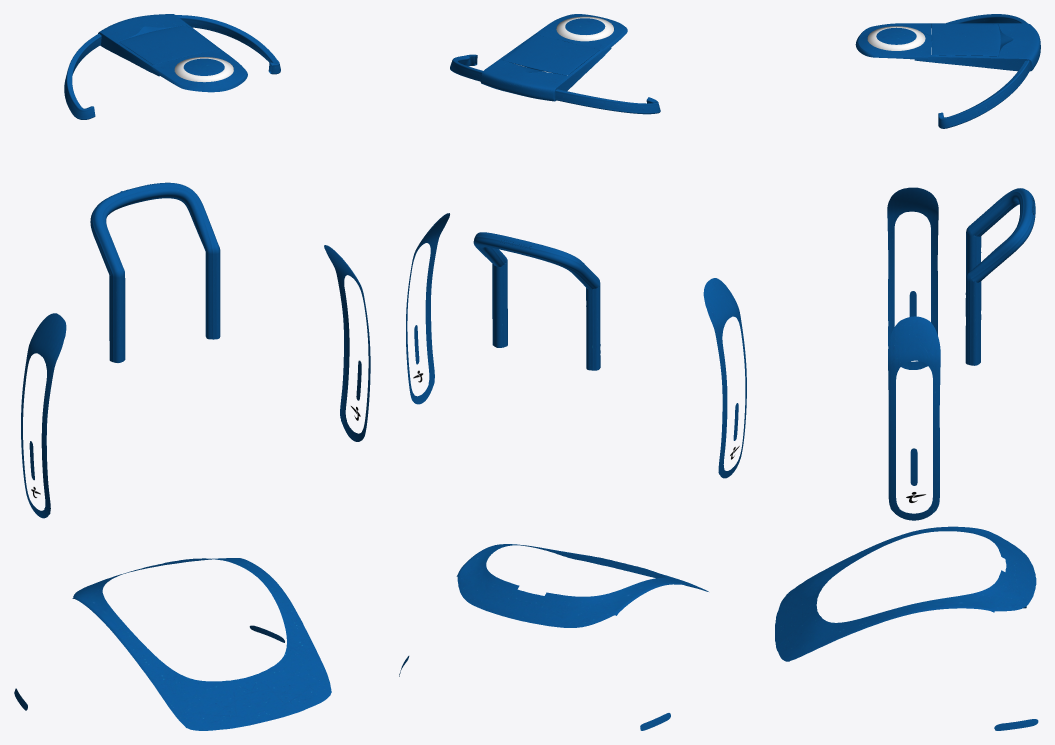
File: 01 Accessorise Accent - Gold & White.glb
The picture shows the model from 3 angles, left to right: view 1: azimuth 30°, elevation 25°; view 2: azimuth 150°, elevation 25°; view 3: azimuth 270°, elevation 25°; orthographic projection. The views are drawn at different scales.
Parts seen in each view (by area): view 1: AMR Casing.003, Grab handle, ARM CASING - sTICKER, Head Upper- Headphone Structure.001, headphone 01.001, input cover.001, ARM CASING - sTICKER.001, Plane, touch module casing.002; view 2: AMR Casing.003, Grab handle, headphone 01.001, ARM CASING - sTICKER, input cover.001, ARM CASING - sTICKER.001, Head Upper- Headphone Structure.001, touch module casing.002, Plane; view 3: AMR Casing.003, ARM CASING - sTICKER.001, Grab handle, ARM CASING - sTICKER, headphone 01.001, input cover.001, Head Upper- Headphone Structure.001, Plane, touch module casing.002.
Part boxes in pixels (x1,y1,x2,y2): AMR Casing.003: (72, 558, 331, 730); Grab handle: (90, 182, 220, 362); ARM CASING - sTICKER: (21, 313, 66, 518); Head Upper- Headphone Structure.001: (64, 15, 280, 119); headphone 01.001: (98, 14, 222, 76); input cover.001: (119, 25, 218, 64); ARM CASING - sTICKER.001: (324, 245, 370, 441); Plane: (152, 50, 247, 92); touch module casing.002: (174, 57, 233, 82); AMR Casing.003: (456, 544, 708, 627); Grab handle: (473, 232, 600, 370); headphone 01.001: (480, 32, 611, 101); ARM CASING - sTICKER: (703, 278, 746, 478); input cover.001: (503, 35, 598, 75); ARM CASING - sTICKER.001: (406, 213, 449, 404); Head Upper- Headphone Structure.001: (450, 54, 660, 114); touch module casing.002: (556, 16, 613, 41); Plane: (536, 14, 627, 52); AMR Casing.003: (775, 526, 1036, 661); ARM CASING - sTICKER.001: (888, 316, 940, 520); Grab handle: (965, 188, 1035, 365); ARM CASING - sTICKER: (887, 187, 938, 369); headphone 01.001: (914, 23, 1040, 71); input cover.001: (932, 23, 1000, 56); Head Upper- Headphone Structure.001: (938, 14, 1030, 128); Plane: (855, 23, 932, 59); touch module casing.002: (867, 26, 925, 50).
Size of the model in its own units: 0.5163 by 0.9675 by 0.3686.
6 materials, 5 textured.
